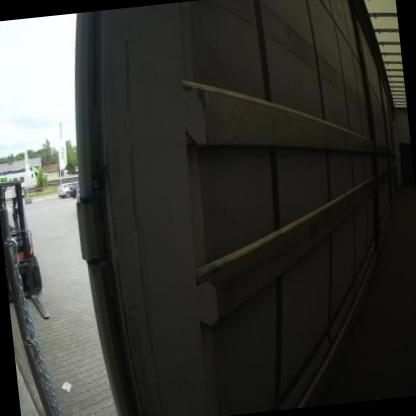forklift: (0, 177, 50, 322)
